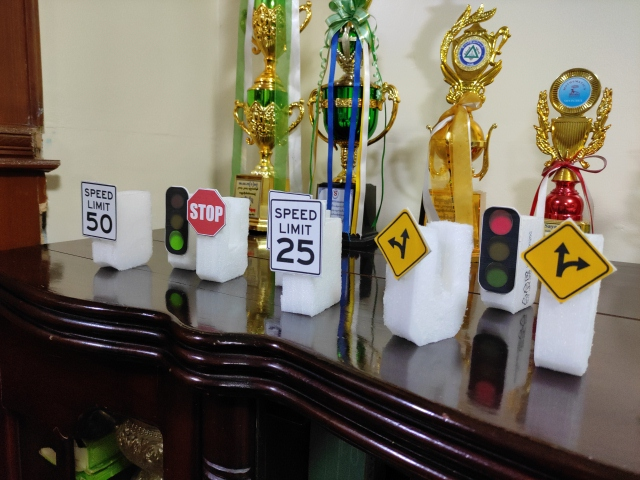Green Traffic Light: (164, 186, 188, 254)
Red Traffic Light: (478, 208, 520, 293)
Speed Limit 25: (270, 200, 322, 273)
Speed Limit 50: (80, 180, 118, 240)
Stop Sign: (186, 188, 228, 236)
Straight Or Left Sign: (376, 211, 429, 278)
Straight Or Right Sign: (525, 219, 612, 300)
